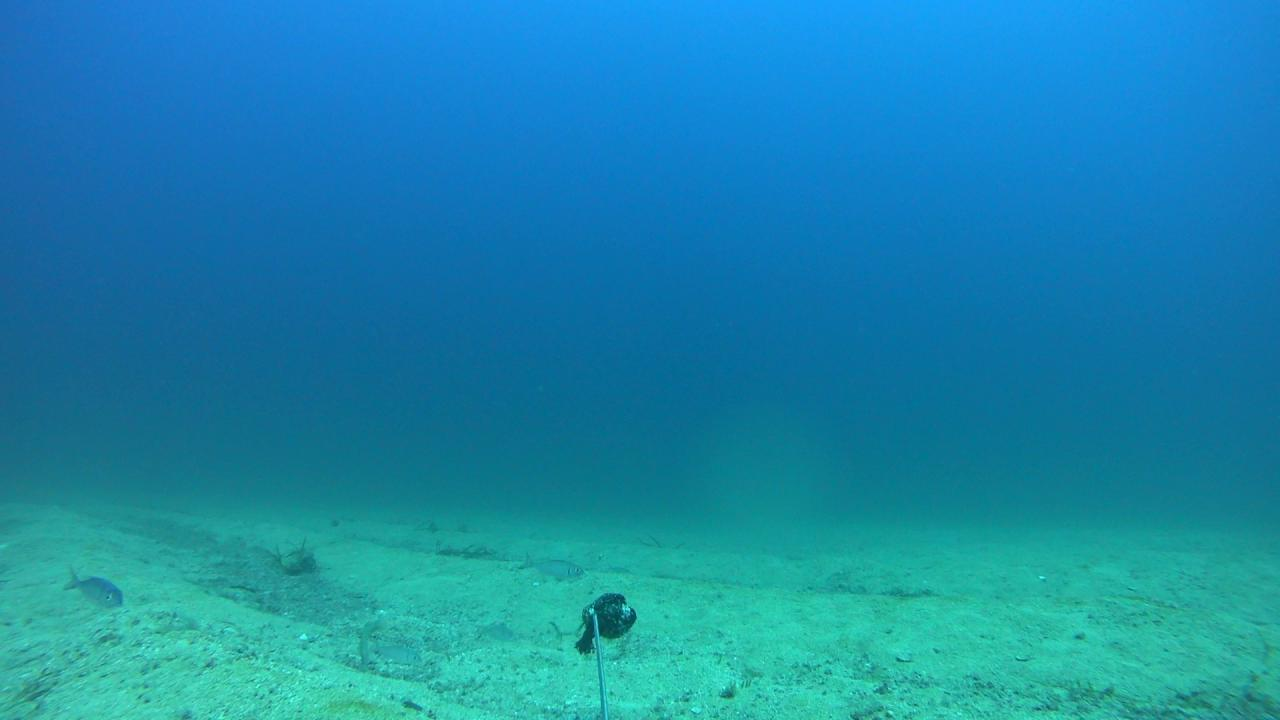pagellus: (62, 565, 128, 611), (519, 550, 583, 579), (367, 640, 428, 666), (472, 619, 515, 643)
